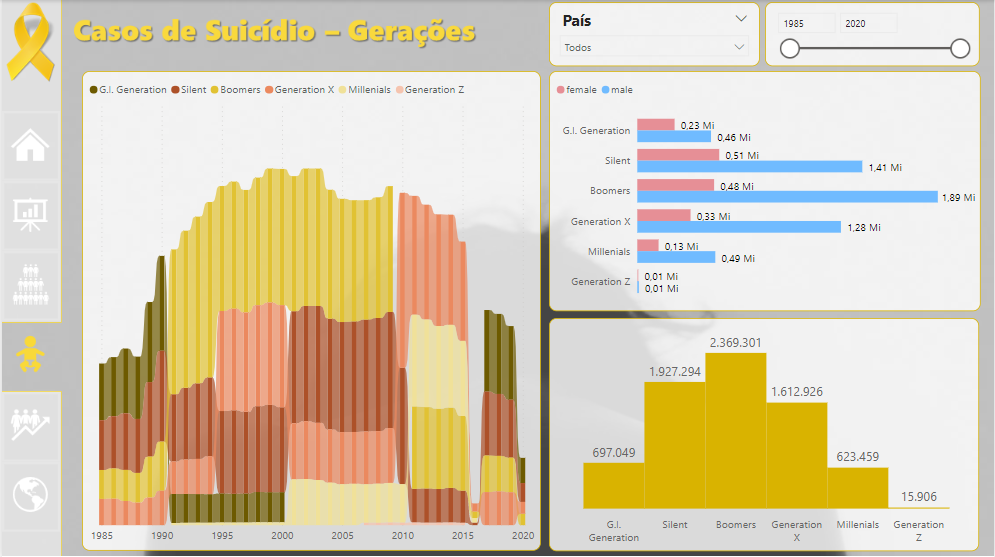

Layout of this report page (visuals, bound fields, positions):
{"tool":"powerbi","page":{"name":"Gerações","canvas":[1280,720],"ordinal":3},"visuals":[{"type":"clusteredColumnChart","fields":{"Category":["master.generation"],"Y":["Sum(master.suicides_no)"]},"box":[705.8,410.3,554.8,300.6],"z":0},{"type":"clusteredBarChart","fields":{"Category":["master.generation"],"Y":["Sum(master.suicides_no)"],"Series":["master.sex"]},"box":[705.8,91.6,557.4,309.7],"z":1000},{"type":"ribbonChart","title":"Suícidios por Geração ","fields":{"Category":["master.year"],"Y":["Sum(master.suicides_no)"],"Series":["master.generation"]},"box":[103.2,91.6,592.3,619.4],"z":2000},{"type":"actionButton","box":[0,143.2,74.8,90.3],"z":3000},{"type":"actionButton","box":[0,233.5,74.8,90.3],"z":4000},{"type":"actionButton","box":[0,323.9,74.8,90.3],"z":5000},{"type":"actionButton","box":[0,505.8,74.8,90.3],"z":6000},{"type":"actionButton","box":[0,596.1,74.8,90.3],"z":7000},{"type":"slicer","fields":{"Values":["master.country - tratada"]},"box":[705.8,2.6,272.3,82.6],"z":8000},{"type":"slicer","fields":{"Values":["master.year"]},"box":[984.5,2.6,277.4,82.6],"z":9000}]}

Visuals, with their boxes in screenshot pixels (x1, y1, x2, y2), scaled from the page's 1280x720 canvas onto the 995x557 screenshot:
clusteredColumnChart - master.generation x Sum(master.suicides_no): [left=549, top=317, right=980, bottom=550]
clusteredBarChart - master.generation x Sum(master.suicides_no): [left=549, top=71, right=982, bottom=310]
"Suícidios por Geração " ribbonChart: [left=80, top=71, right=541, bottom=550]
actionButton: [left=0, top=111, right=58, bottom=181]
actionButton: [left=0, top=181, right=58, bottom=250]
actionButton: [left=0, top=251, right=58, bottom=320]
actionButton: [left=0, top=391, right=58, bottom=461]
actionButton: [left=0, top=461, right=58, bottom=531]
slicer - master.country - tratada: [left=549, top=2, right=760, bottom=66]
slicer - master.year: [left=765, top=2, right=981, bottom=66]
